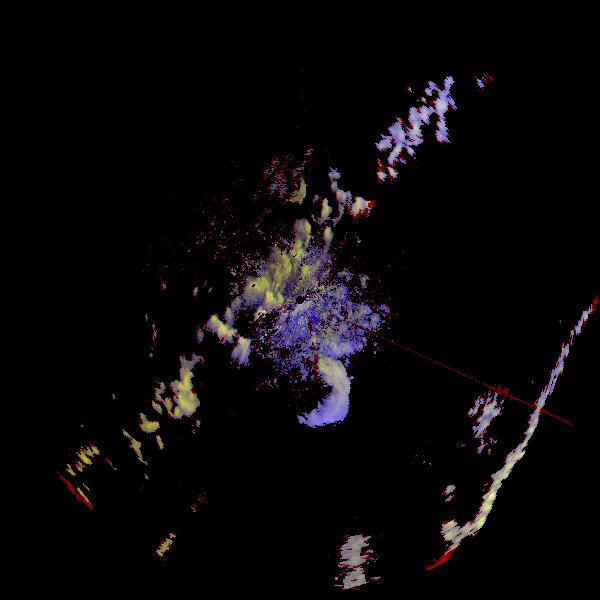roost: (264, 340, 360, 436), (233, 134, 320, 221)
